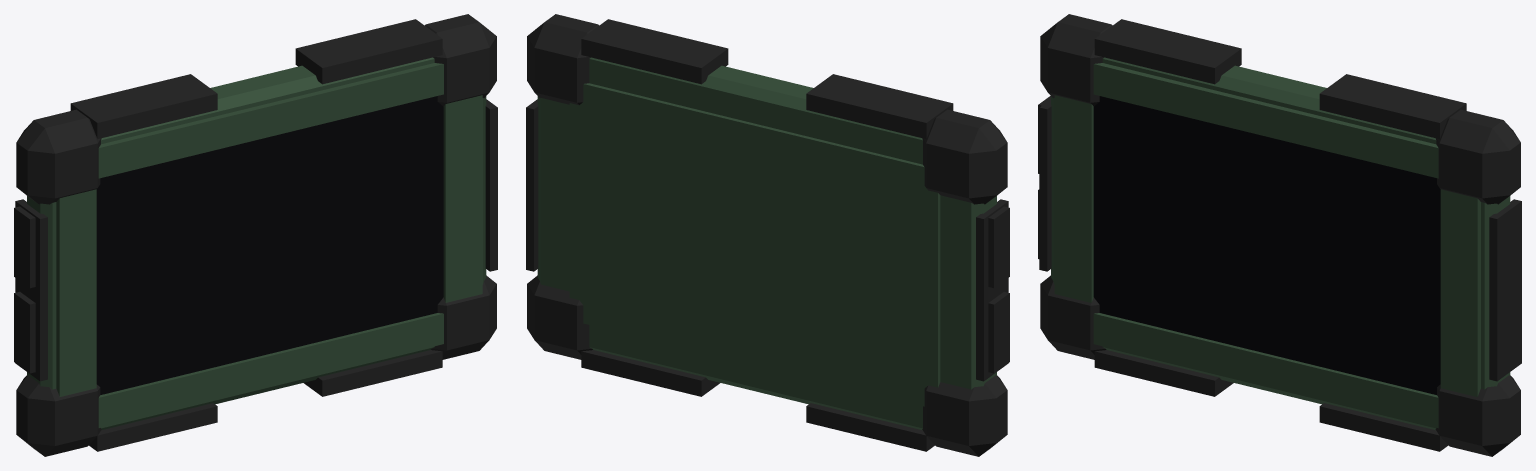
The model's file is tablet.glb.
3 views of the same model, side by side, from view 1: azimuth 30°, elevation 25°; view 2: azimuth 150°, elevation 25°; view 3: azimuth 330°, elevation 25° (orthographic).
Parts seen in each view (by area): view 1: PROP_Tablet; view 2: PROP_Tablet; view 3: PROP_Tablet.
Boxes of the visible parts, x1,y1,x2,y2 form: PROP_Tablet: (14, 14, 497, 456); PROP_Tablet: (526, 14, 1009, 456); PROP_Tablet: (1038, 14, 1521, 456).
Size of the model in its own units: 0.242 by 0.162 by 0.028.
